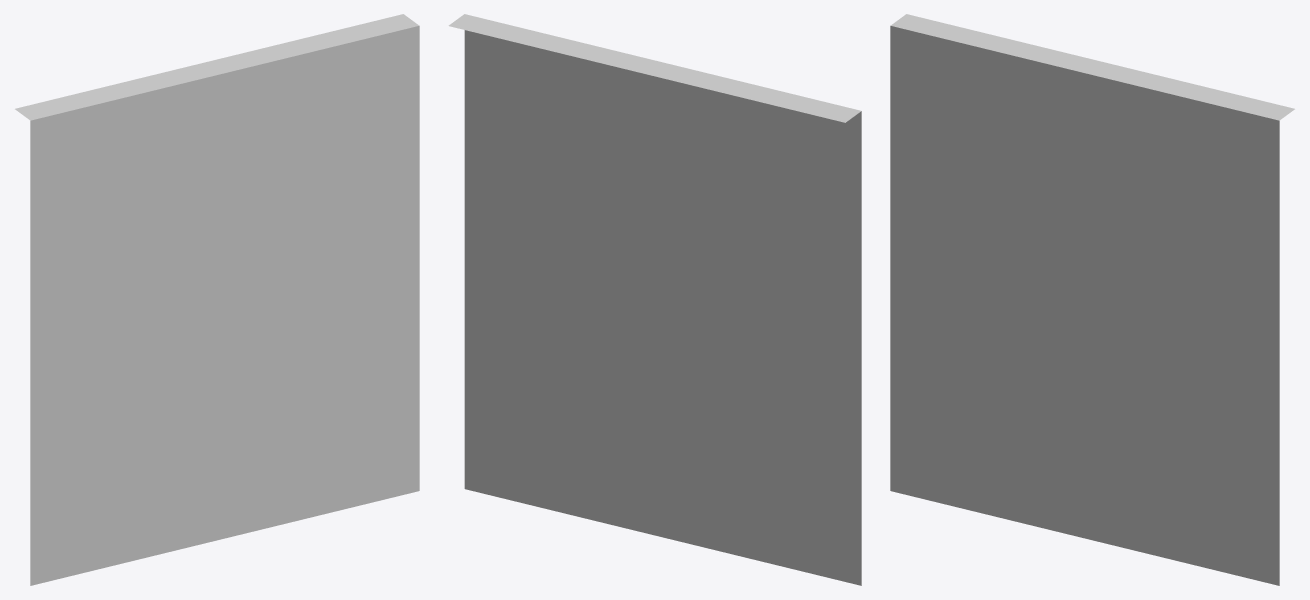
File: M_Wall400White80.FBX
3 renders of one model, left to right at view 1: azimuth 30°, elevation 25°; view 2: azimuth 150°, elevation 25°; view 3: azimuth 330°, elevation 25°, orthographic. The views are drawn at different scales.
Visible parts, largest first — view 1: M_Wall400White80; view 2: M_Wall400White80; view 3: M_Wall400White80.
Part boxes in pixels (bbox=[...]): M_Wall400White80: bbox=[15, 14, 419, 585]; M_Wall400White80: bbox=[448, 14, 861, 585]; M_Wall400White80: bbox=[890, 14, 1294, 585].
Bounding box in the file's own units: 3.5 × 4 × 0.25.
